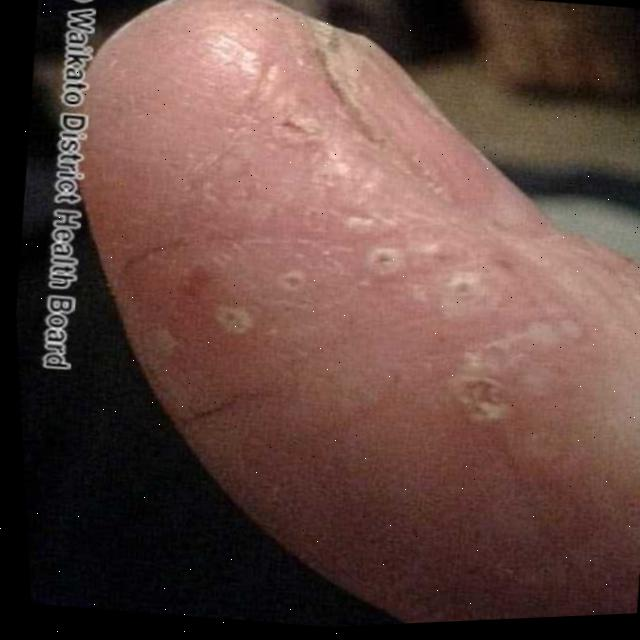Eczema: (176, 100, 526, 426)
